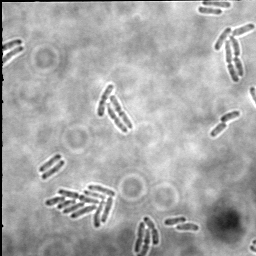Dividing: (209, 109, 242, 138), (110, 94, 134, 129), (106, 102, 129, 134), (96, 82, 115, 118), (143, 215, 160, 246), (136, 228, 152, 256), (133, 221, 146, 253)
Microcolony: (43, 183, 116, 230), (213, 23, 255, 82)
Rod: (41, 159, 65, 181), (38, 153, 62, 173), (197, 5, 224, 16), (163, 216, 187, 227), (175, 222, 200, 232), (202, 1, 232, 8)
